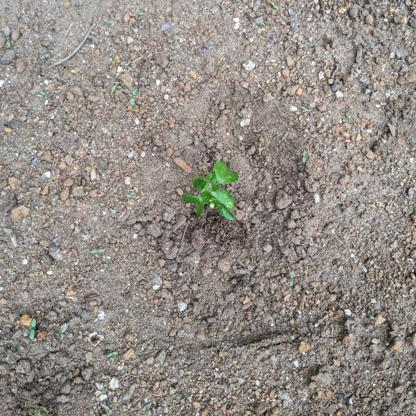weed: (183, 160, 242, 225)
